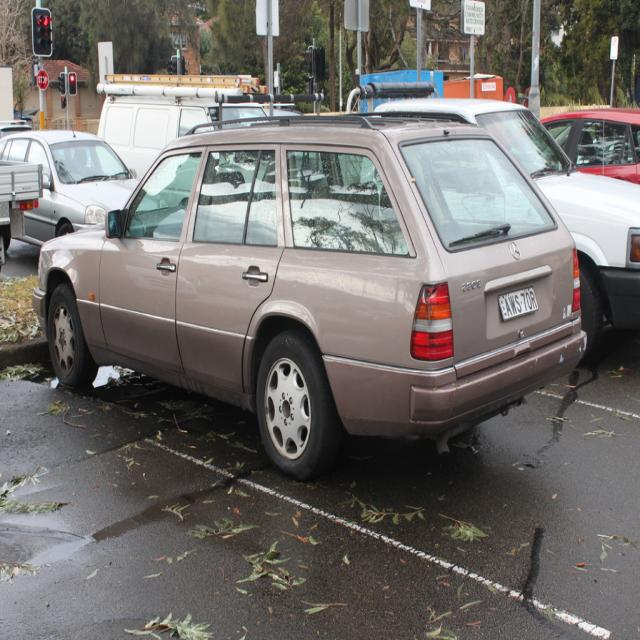car: (32, 96, 587, 486)
